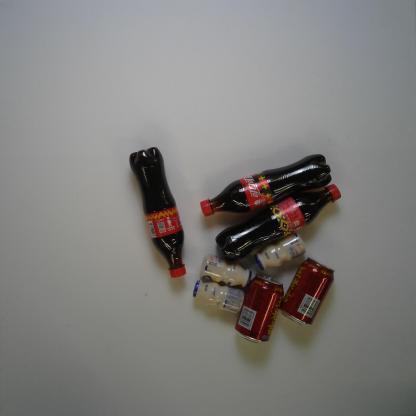Drink: (214, 183, 342, 263), (200, 153, 332, 218), (129, 146, 187, 279), (280, 256, 336, 327), (234, 272, 285, 344)
Milk: (253, 231, 306, 271), (199, 252, 253, 290), (192, 280, 246, 315)
